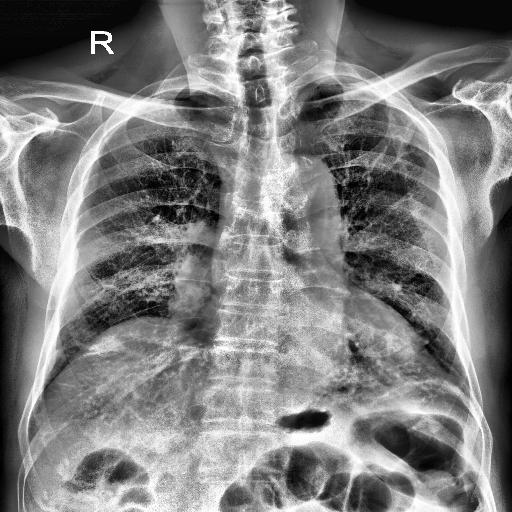0- Aortic enlargement: (195, 152, 356, 236)
1- Atelectasis: (301, 331, 474, 407)
7- Lung Opacity: (294, 327, 471, 420)
9- Other lesion: (301, 331, 474, 407), (25, 348, 190, 424), (306, 350, 448, 398)
